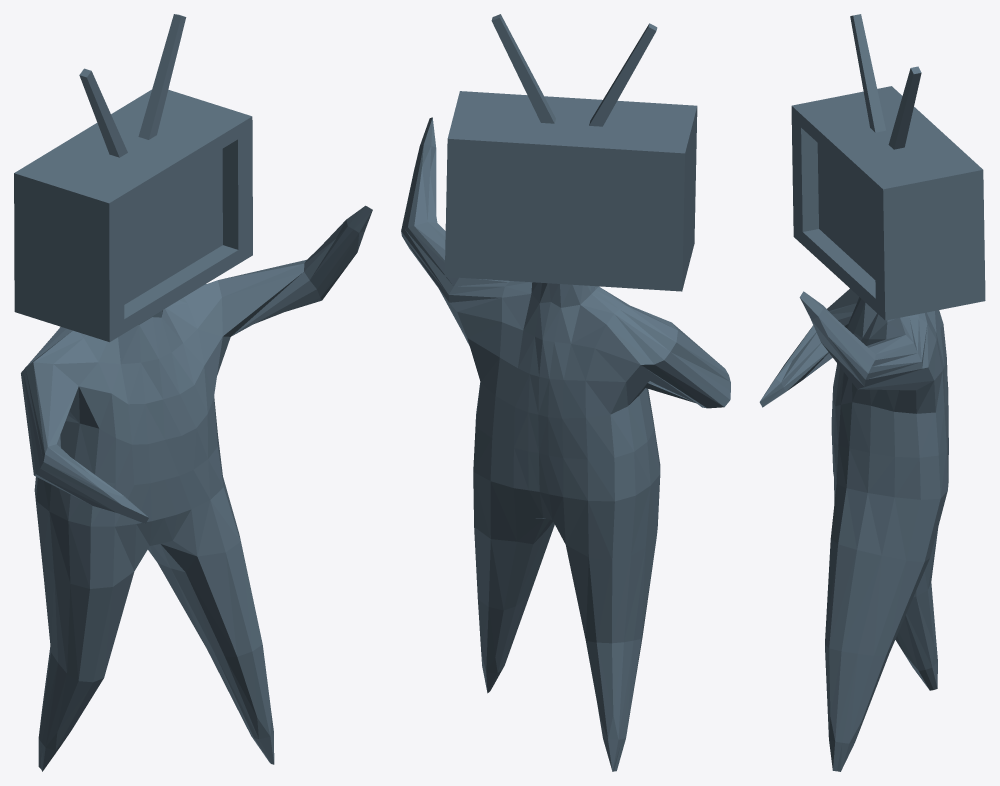
Rendered from TVhead-orator2.dae.
The picture shows the model from 3 angles, left to right: view 1: azimuth 30°, elevation 25°; view 2: azimuth 150°, elevation 25°; view 3: azimuth 270°, elevation 25°; orthographic projection. The views are drawn at different scales.
Parts seen in each view (by area): view 1: Cube_002; view 2: Cube_002; view 3: Cube_002.
Part boxes in pixels (bbox=[...]): Cube_002: bbox=[14, 14, 372, 771]; Cube_002: bbox=[401, 14, 730, 771]; Cube_002: bbox=[759, 14, 985, 771].
Bounding box in the file's own units: 3.57 × 2.33 × 7.76.
